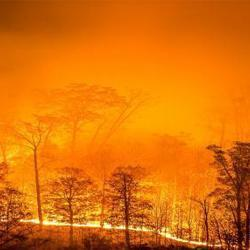fire: (26, 217, 130, 232)
